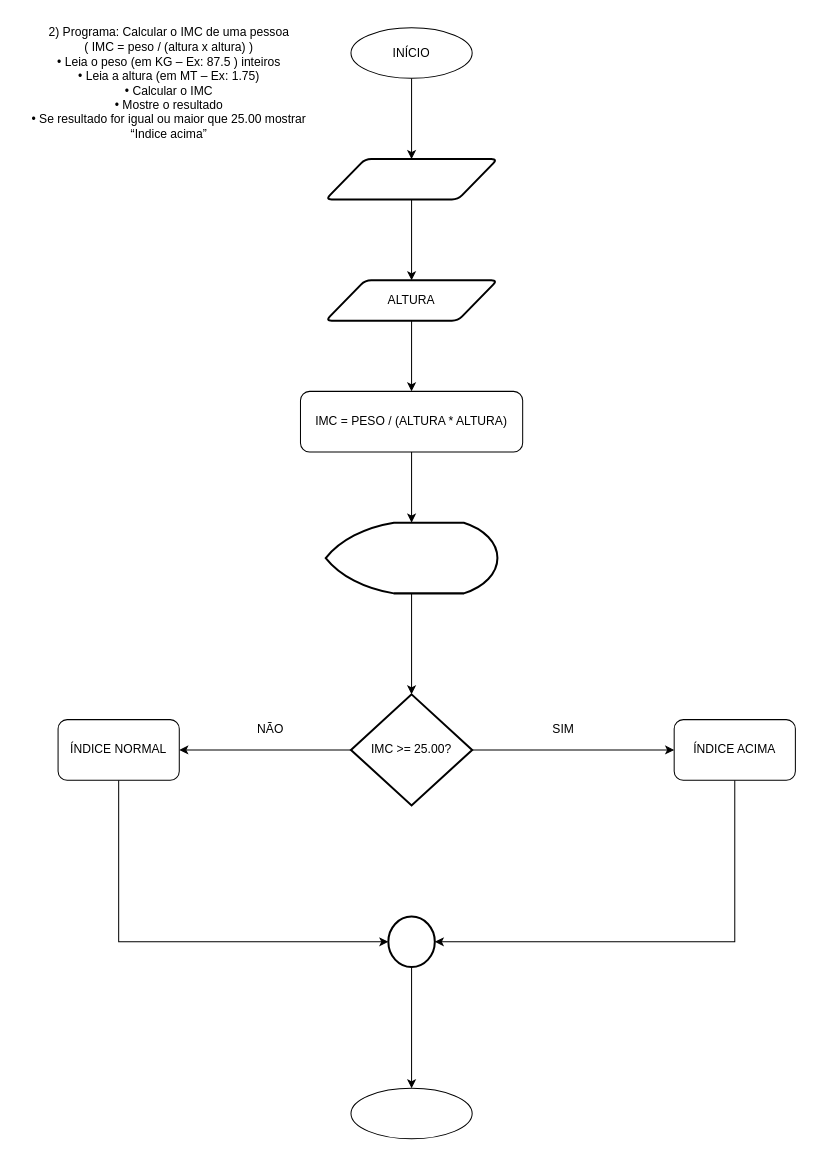
Some shapes in this 813 by 1156 pixel diagram are drawn without their labels. The shapes that lost their labels are listed below. From the top down, each one's centre as x and y in pixels, then its label:
At (x=411, y=179): "PESO".
At (x=411, y=557): "IMC".
At (x=411, y=1113): "FIM".
